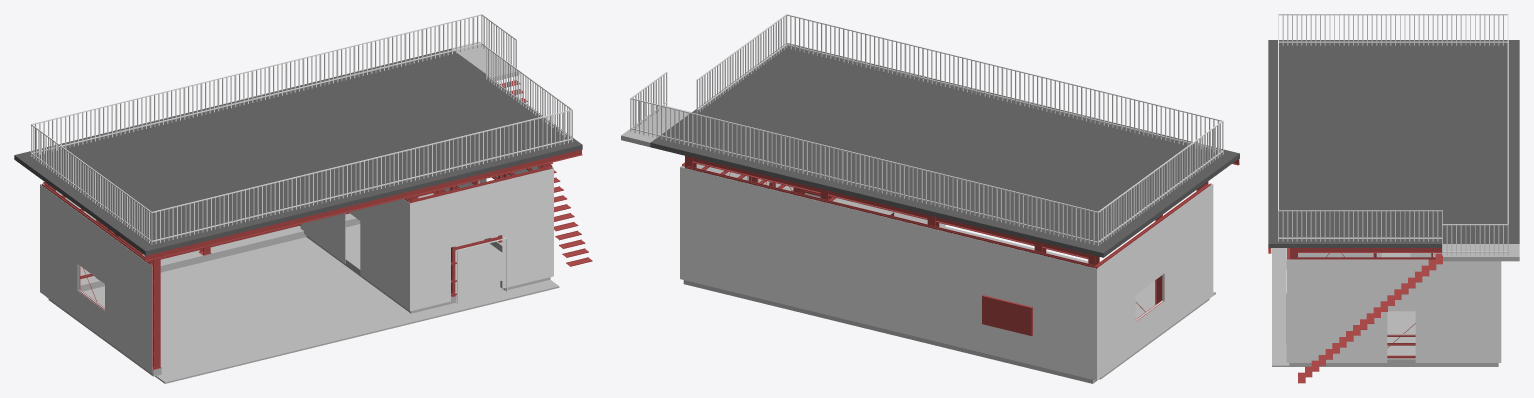
Rendered from warehouse2.fbx.
The picture shows the model from 3 angles, left to right: view 1: azimuth 30°, elevation 25°; view 2: azimuth 150°, elevation 25°; view 3: azimuth 270°, elevation 25°; orthographic projection. The views are drawn at different scales.
Visible parts, largest first — view 1: オブジェクト_227, オブジェクト_20, オブジェクト_19, オブジェクト_226, オブジェクト_14, オブジェクト_308, オブジェクト_307, オブジェクト_309, オブジェクト_305, オブジェクト_306, オブジェクト_311, オブジェクト_312 (+30 smaller); view 2: オブジェクト_227, オブジェクト_213, オブジェクト_267, オブジェクト_273, オブジェクト_265, オブジェクト_275, オブジェクト_264, オブジェクト_281, オブジェクト_274, オブジェクト_280, オブジェクト_266, オブジェクト_272 (+45 smaller); view 3: オブジェクト_227, オブジェクト_19, オブジェクト_20, オブジェクト_292, オブジェクト_290, オブジェクト_298, オブジェクト_300, オブジェクト_302, オブジェクト_294, オブジェクト_299, オブジェクト_301, オブジェクト_291 (+15 smaller).
Boxes of the visible parts, box(x1,y1,x2,y2) form: オブジェクト_227: box(14, 48, 582, 255); オブジェクト_20: box(47, 224, 504, 376); オブジェクト_19: box(156, 279, 559, 383); オブジェクト_226: box(144, 149, 582, 261); オブジェクト_14: box(80, 214, 360, 291); オブジェクト_308: box(502, 174, 528, 234); オブジェクト_307: box(476, 181, 502, 240); オブジェクト_309: box(502, 228, 528, 288); オブジェクト_305: box(425, 193, 450, 253); オブジェクト_306: box(451, 187, 476, 247); オブジェクト_311: box(528, 168, 553, 228); オブジェクト_312: box(425, 247, 450, 307); オブジェクト_227: box(650, 43, 1239, 257); オブジェクト_213: box(692, 158, 1088, 259); オブジェクト_267: box(882, 216, 909, 278); オブジェクト_273: box(802, 197, 829, 259); オブジェクト_265: box(909, 223, 936, 285); オブジェクト_275: box(775, 190, 802, 252); オブジェクト_264: box(909, 279, 936, 341); オブジェクト_281: box(695, 171, 722, 233); オブジェクト_274: box(775, 246, 802, 308); オブジェクト_280: box(695, 227, 722, 289); オブジェクト_266: box(882, 272, 909, 334); オブジェクト_272: box(802, 253, 829, 315); オブジェクト_227: box(1268, 40, 1519, 247); オブジェクト_19: box(1272, 248, 1289, 366); オブジェクト_20: box(1289, 253, 1498, 366); オブジェクト_292: box(1330, 259, 1358, 311); オブジェクト_290: box(1302, 259, 1330, 311); オブジェクト_298: box(1415, 311, 1443, 362); オブジェクト_300: box(1444, 311, 1472, 362); オブジェクト_302: box(1472, 311, 1500, 362); オブジェクト_294: box(1358, 259, 1387, 311); オブジェクト_299: box(1444, 261, 1472, 311); オブジェクト_301: box(1472, 261, 1500, 311); オブジェクト_291: box(1302, 311, 1330, 362).
Bounding box in the file's own units: 16420 × 5795 × 8039.
